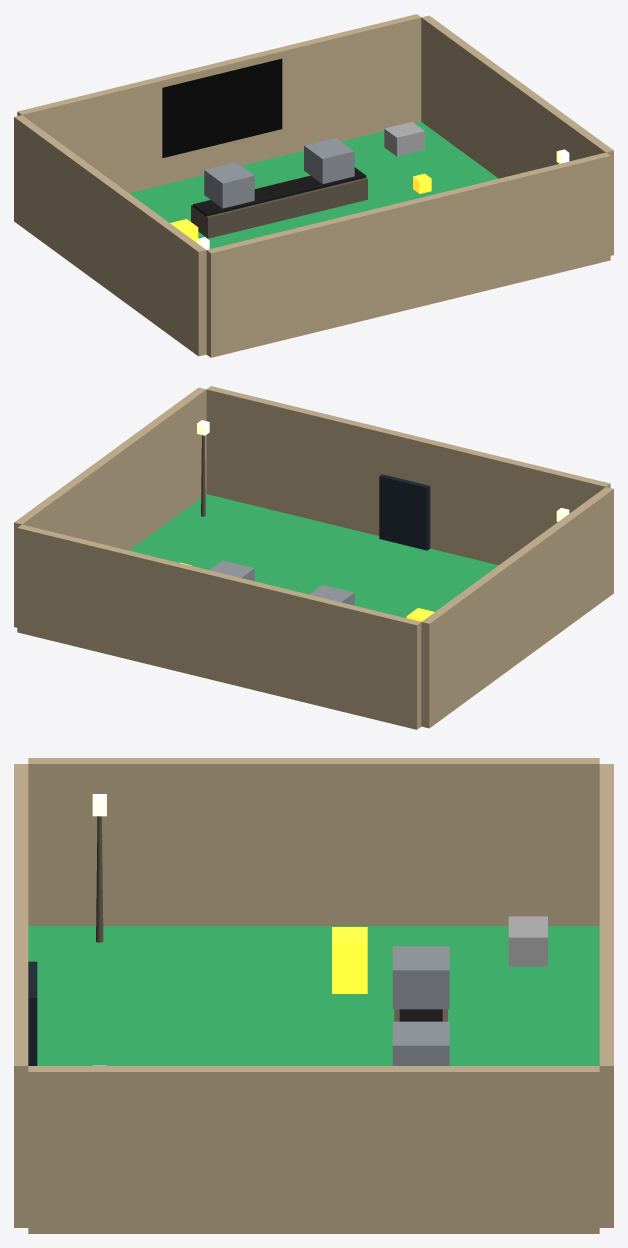
The model's file is factory_interior.glb.
The picture shows the model from 3 angles, top to bottom: view 1: azimuth 30°, elevation 25°; view 2: azimuth 150°, elevation 25°; view 3: azimuth 270°, elevation 25°; orthographic projection. The views are drawn at different scales.
Parts seen in each view (by area): view 1: wall_s, wall_n, wall_w, wall_e, nav_walkable, screen_factory_wall, line_base, line_hood_1, line_hood_2, line_belt, hvac_4; view 2: wall_n, wall_s, wall_w, nav_walkable, wall_e, door_exit_plaza, line_hood_1, line_hood_2; view 3: wall_e, wall_w, nav_walkable, wall_n, wall_s, line_hood_1, line_hood_2, hotspot_line_info, hvac_3, door_exit_plaza, lamp_post_6.
Boxes of the visible parts, <box> form: wall_s: <box>206,152,610,357</box>; wall_n: <box>17,14,421,193</box>; wall_w: <box>14,115,206,356</box>; wall_e: <box>421,15,613,255</box>; nav_walkable: <box>129,122,498,248</box>; screen_factory_wall: <box>162,58,282,158</box>; line_base: <box>191,177,367,238</box>; line_hood_1: <box>204,162,254,208</box>; line_hood_2: <box>304,138,354,183</box>; line_belt: <box>192,167,366,216</box>; hvac_4: <box>384,122,424,156</box>; wall_n: <box>17,524,421,729</box>; wall_s: <box>206,386,610,565</box>; wall_w: <box>421,487,613,728</box>; nav_walkable: <box>129,494,498,618</box>; wall_e: <box>14,387,206,627</box>; door_exit_plaza: <box>379,474,430,550</box>; line_hood_1: <box>309,585,354,605</box>; line_hood_2: <box>209,560,254,581</box>; wall_e: <box>28,1066,599,1233</box>; wall_w: <box>28,758,599,925</box>; nav_walkable: <box>28,926,599,1065</box>; wall_n: <box>599,764,613,1227</box>; wall_s: <box>14,764,28,1227</box>; line_hood_1: <box>392,946,449,1009</box>; line_hood_2: <box>392,1021,449,1065</box>; hotspot_line_info: <box>332,927,367,993</box>; hvac_3: <box>508,916,547,966</box>; door_exit_plaza: <box>28,961,37,1065</box>; lamp_post_6: <box>96,816,103,942</box>.
Size of what is drawn, in the model's own units: 20.8 by 5.02 by 16.8.
